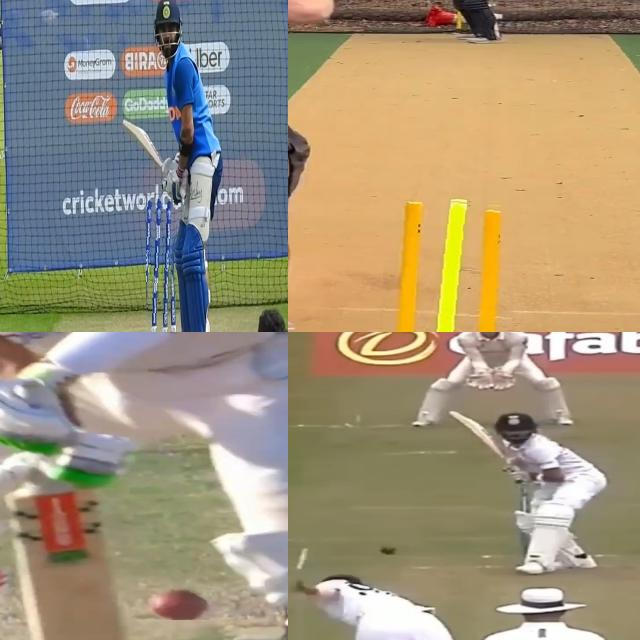Cricket ball: (148, 584, 212, 620), (378, 542, 400, 555)
Stumps: (383, 197, 519, 332), (145, 199, 178, 332)
